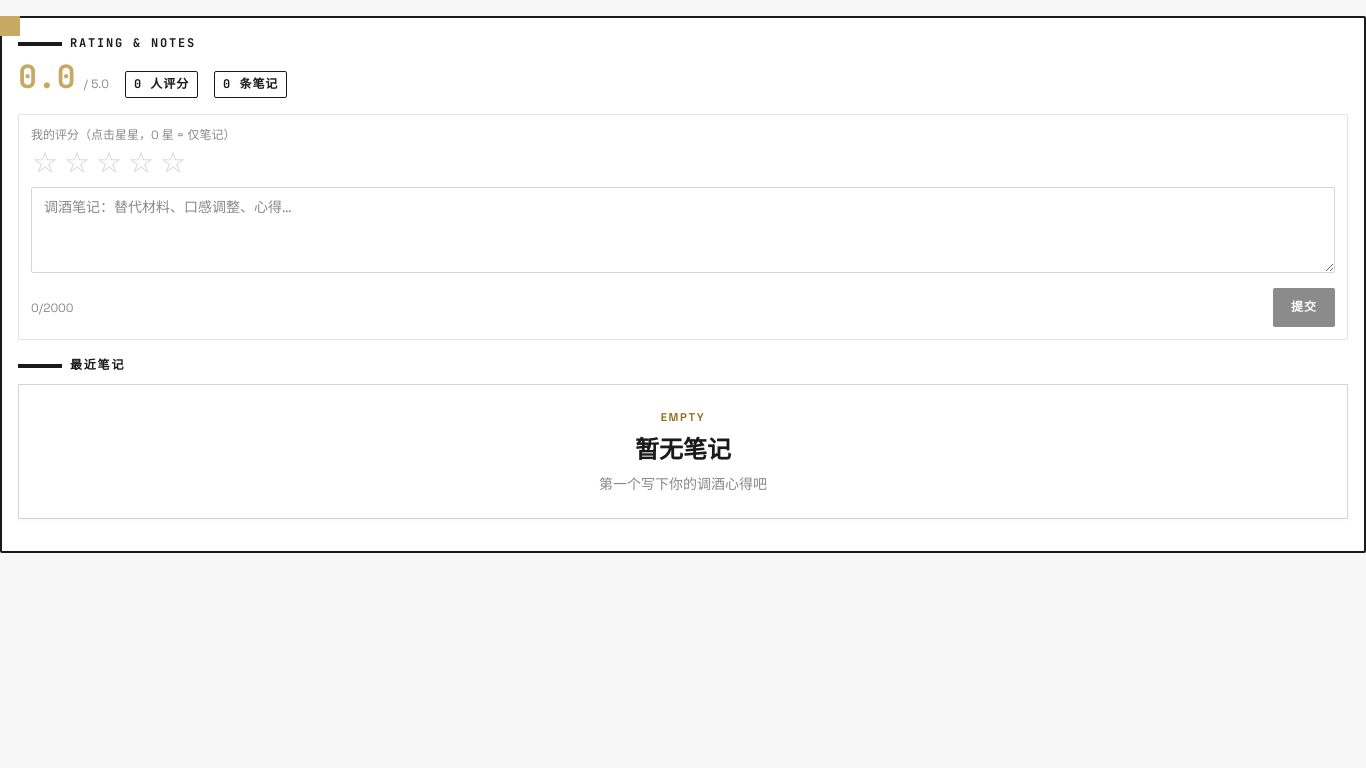
Scenario: RecipeRatingPanel › 笔记字符计数显示
The width and height of the screenshot is (1366, 768).
Expected: the text "0/2000" is shown, left=31, top=300, right=74, bottom=316
Type "abc" into the text box with test id "rating-comment" at coordinates (683, 230), box left=31, top=187, right=1335, bottom=273
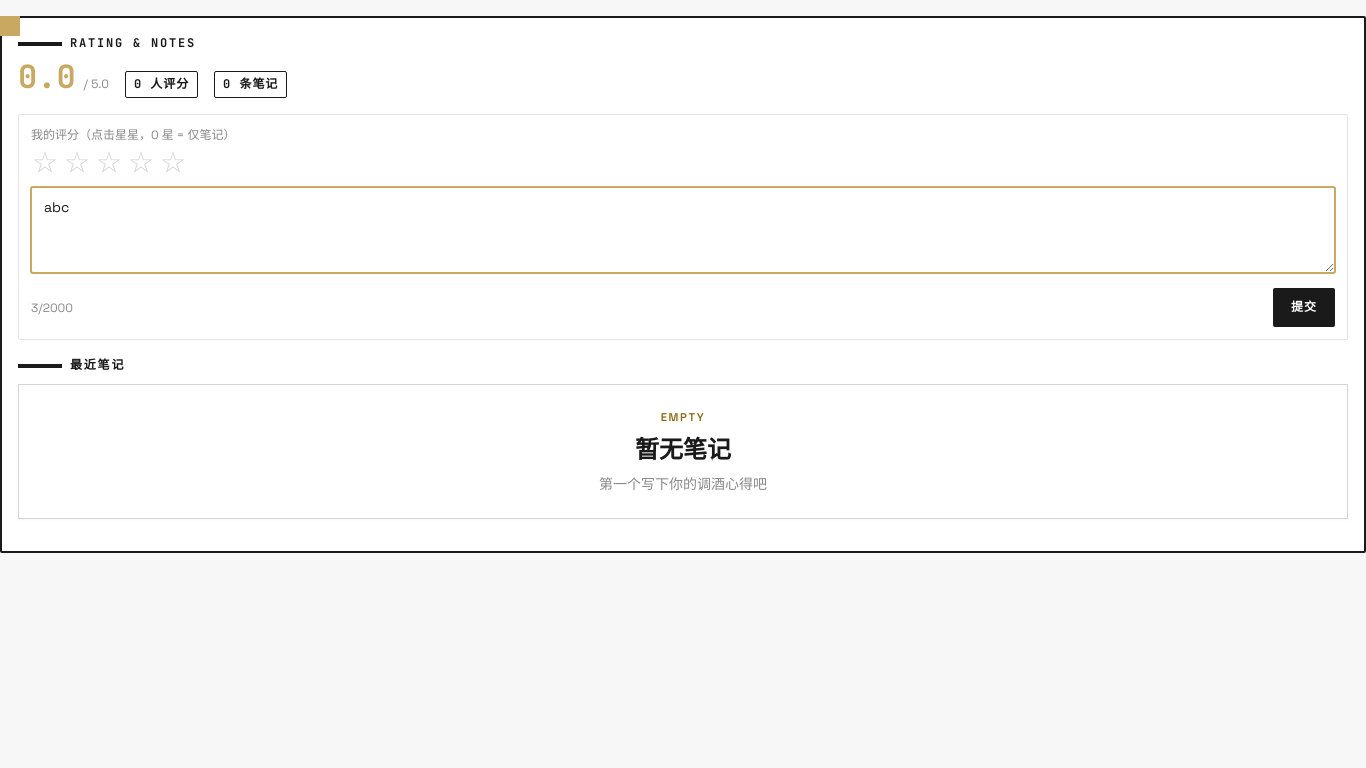
Expected: the text "3/2000" is shown, left=31, top=300, right=73, bottom=316
